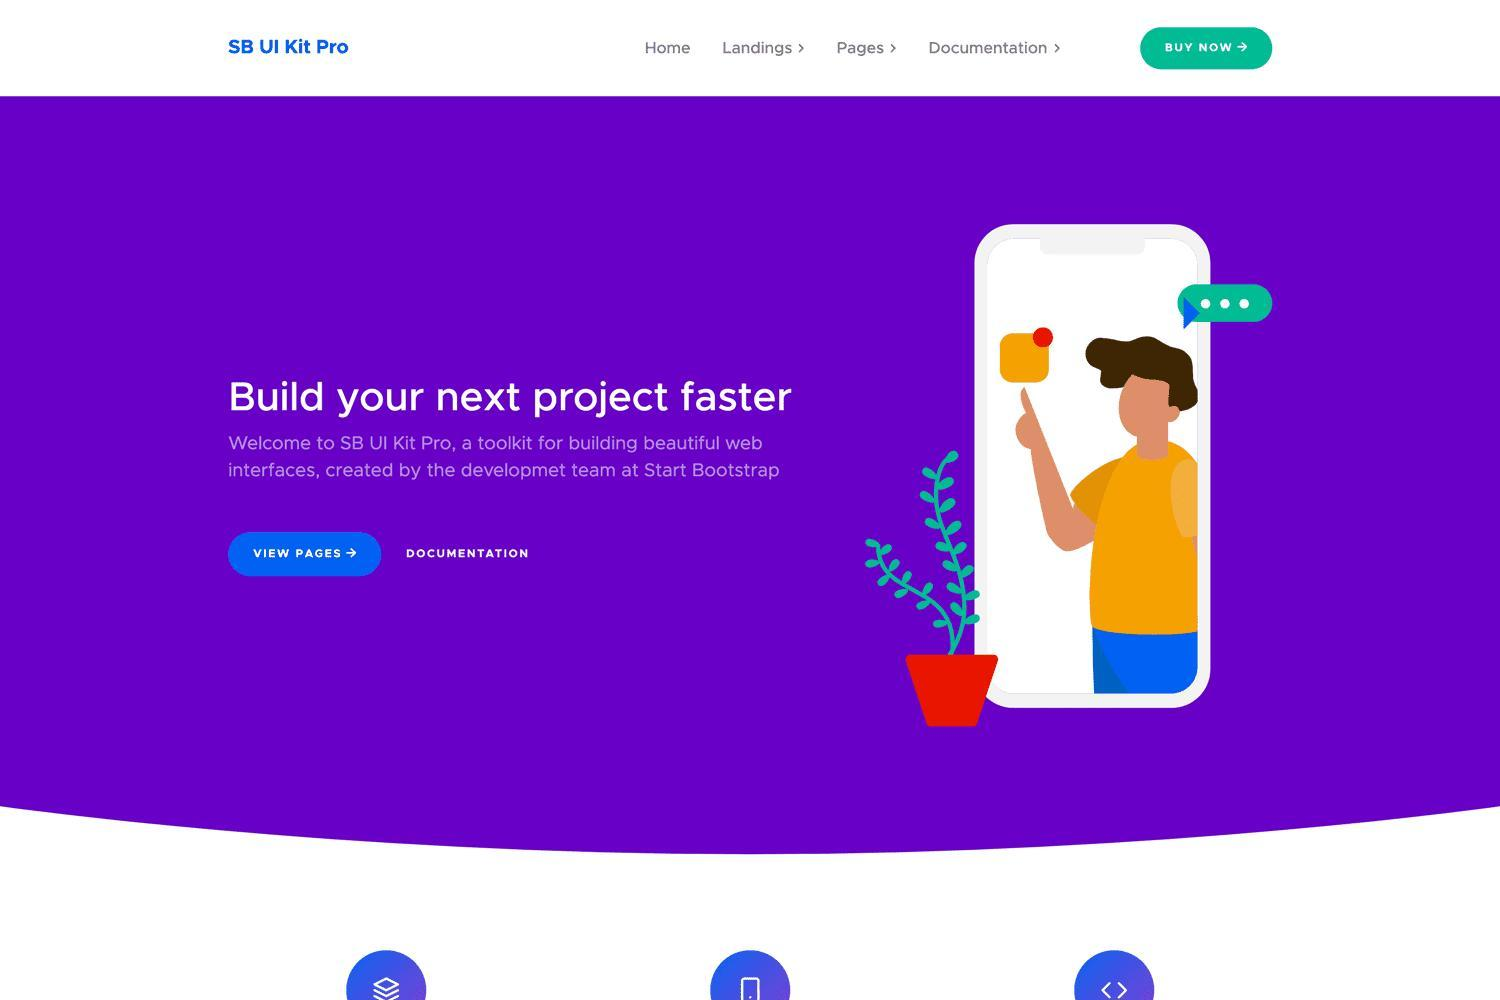button: (228, 532, 384, 578), (1141, 26, 1275, 71)
label: (405, 544, 531, 565), (230, 38, 350, 58), (927, 40, 1051, 58), (721, 44, 796, 59), (834, 39, 888, 58), (642, 42, 692, 56)
